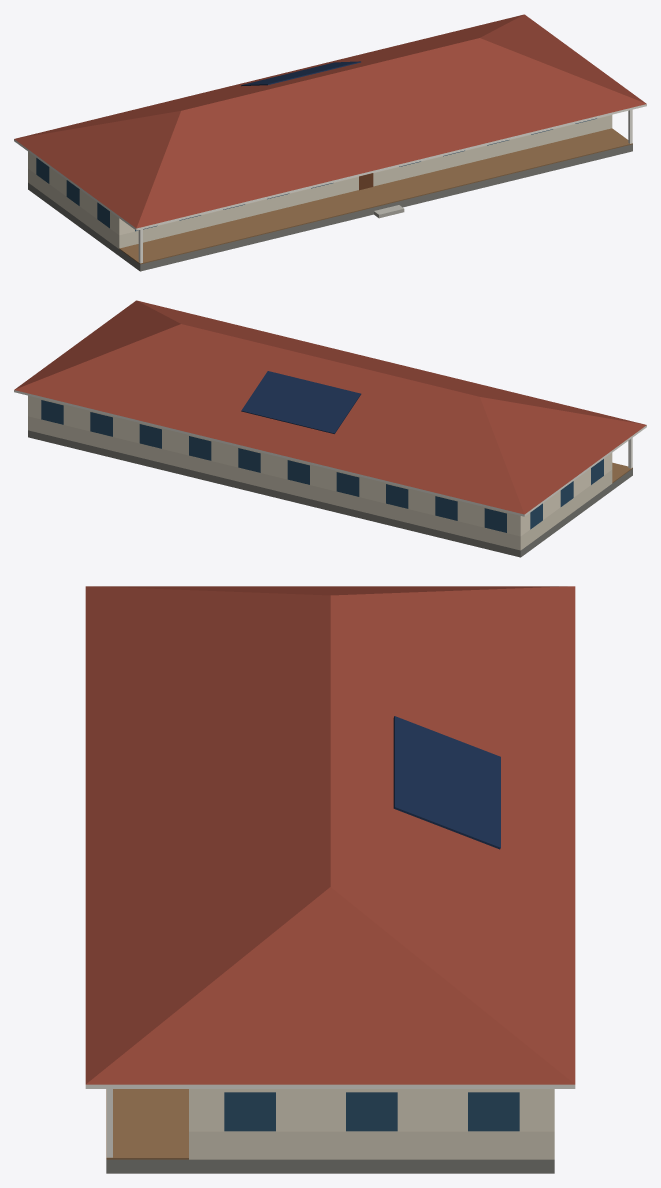
The model's file is house_33x13_lod1.glb.
3 views of the same model, one above another, from view 1: azimuth 30°, elevation 25°; view 2: azimuth 150°, elevation 25°; view 3: azimuth 270°, elevation 25° (orthographic). The views are drawn at different scales.
Parts seen in each view (by area): view 1: house; view 2: house; view 3: house.
Boxes of the visible parts, box(x1,y1,x2,y2) form: house: box(14, 14, 646, 271); house: box(14, 300, 646, 557); house: box(85, 586, 575, 1173).
Size of the model in its own units: 34.2 by 6.15 by 14.2.
